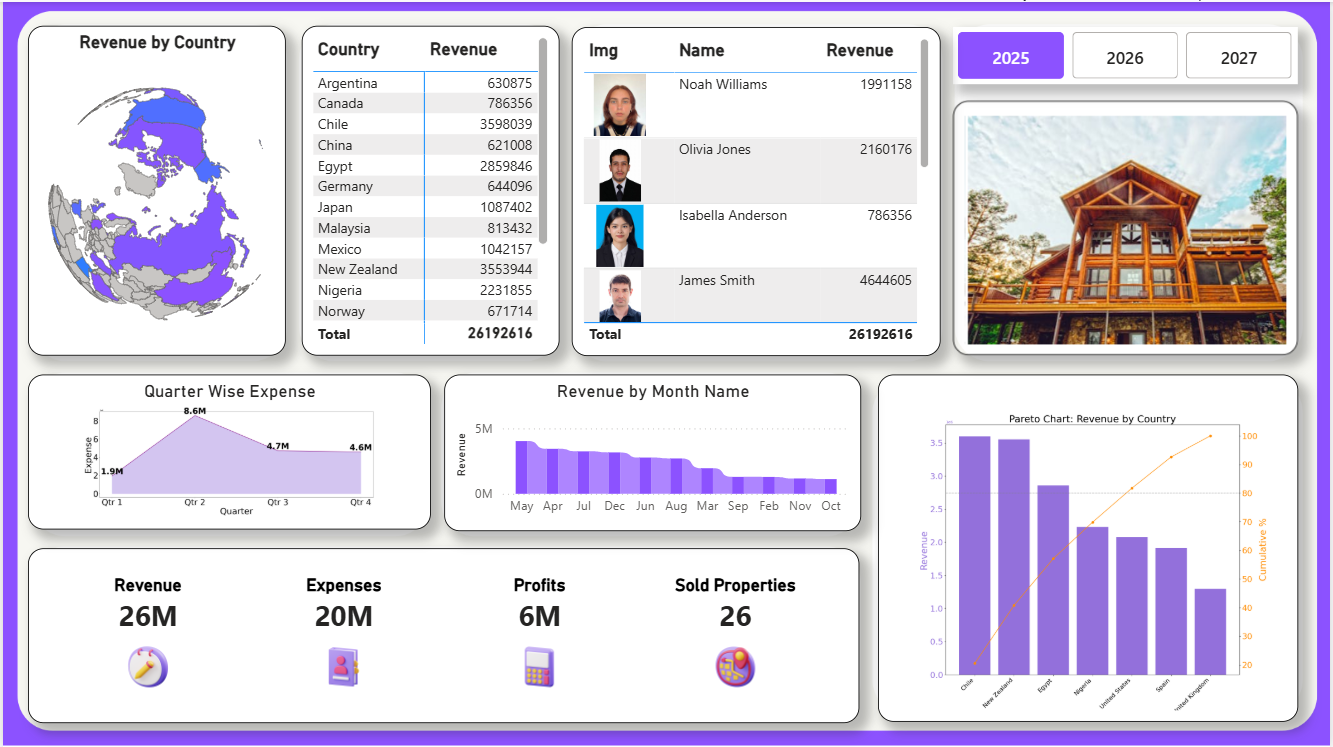

What the dashboard file says about the page in this screenshot:
{"tool":"powerbi","page":{"name":"Page 1","canvas":[1280,720],"ordinal":0},"visuals":[{"type":"advancedSlicerVisual","fields":{"Values":["Calendar.Year"]},"box":[916.9,24.1,333,55.5],"z":0},{"type":"shapeMap","fields":{"Value":["Measure Table.Revenue"],"Category":["property details.Country"]},"box":[24.1,22.9,248.5,318.5],"z":1000},{"type":"pivotTable","fields":{"Rows":["property details.Country"],"Values":["Measure Table.Revenue"]},"box":[288.3,22.9,248.5,318.5],"z":2000},{"type":"tableEx","fields":{"Values":["customer details.Img","customer details.Name","Measure Table.Revenue"]},"box":[548.9,24.1,355.9,317.3],"z":3000},{"type":"cardVisual","fields":{"Data":["Measure Table.Revenue","Measure Table.Expenses","Measure Table.Profits","Measure Table.Sold Properties"]},"box":[24.1,527.2,802.3,168.9],"z":4000},{"type":"pythonVisual","title":"Quarter Wise Expense","fields":{"Values":["Calendar.Quarter","Sum(property details.Expense)"]},"box":[24.1,359.5,388.5,149.6],"z":5000},{"type":"pythonVisual","fields":{"Values":["property details.Country","Measure Table.Revenue"]},"box":[844.4,359.5,405.5,335.2],"z":6000},{"type":"ribbonChart","fields":{"Category":["Calendar.Month Name"],"Y":["Measure Table.Revenue"]},"box":[425.4,359.5,402.1,150.9],"z":7000},{"type":"ImageCarouselByMAQSoftware1448688110701","fields":{"ImageData":["property details.Image"]},"box":[917.1,95.7,332.9,245.7],"z":8000}]}

Visuals, with their boxes in screenshot pixels (x1, y1, x2, y2), scaled from the page's 1280x720 canvas onto the 1333x747 screenshot:
advancedSlicerVisual - Calendar.Year: {"x1": 955, "y1": 25, "x2": 1302, "y2": 83}
shapeMap - Measure Table.Revenue x property details.Country: {"x1": 25, "y1": 24, "x2": 284, "y2": 354}
pivotTable - property details.Country x Measure Table.Revenue: {"x1": 300, "y1": 24, "x2": 559, "y2": 354}
tableEx - customer details.Img x customer details.Name: {"x1": 572, "y1": 25, "x2": 942, "y2": 354}
cardVisual - Measure Table.Revenue x Measure Table.Expenses: {"x1": 25, "y1": 547, "x2": 861, "y2": 722}
"Quarter Wise Expense" pythonVisual: {"x1": 25, "y1": 373, "x2": 430, "y2": 528}
pythonVisual - property details.Country x Measure Table.Revenue: {"x1": 879, "y1": 373, "x2": 1302, "y2": 721}
ribbonChart - Calendar.Month Name x Measure Table.Revenue: {"x1": 443, "y1": 373, "x2": 862, "y2": 530}
ImageCarouselByMAQSoftware1448688110701 - property details.Image: {"x1": 955, "y1": 99, "x2": 1302, "y2": 354}
